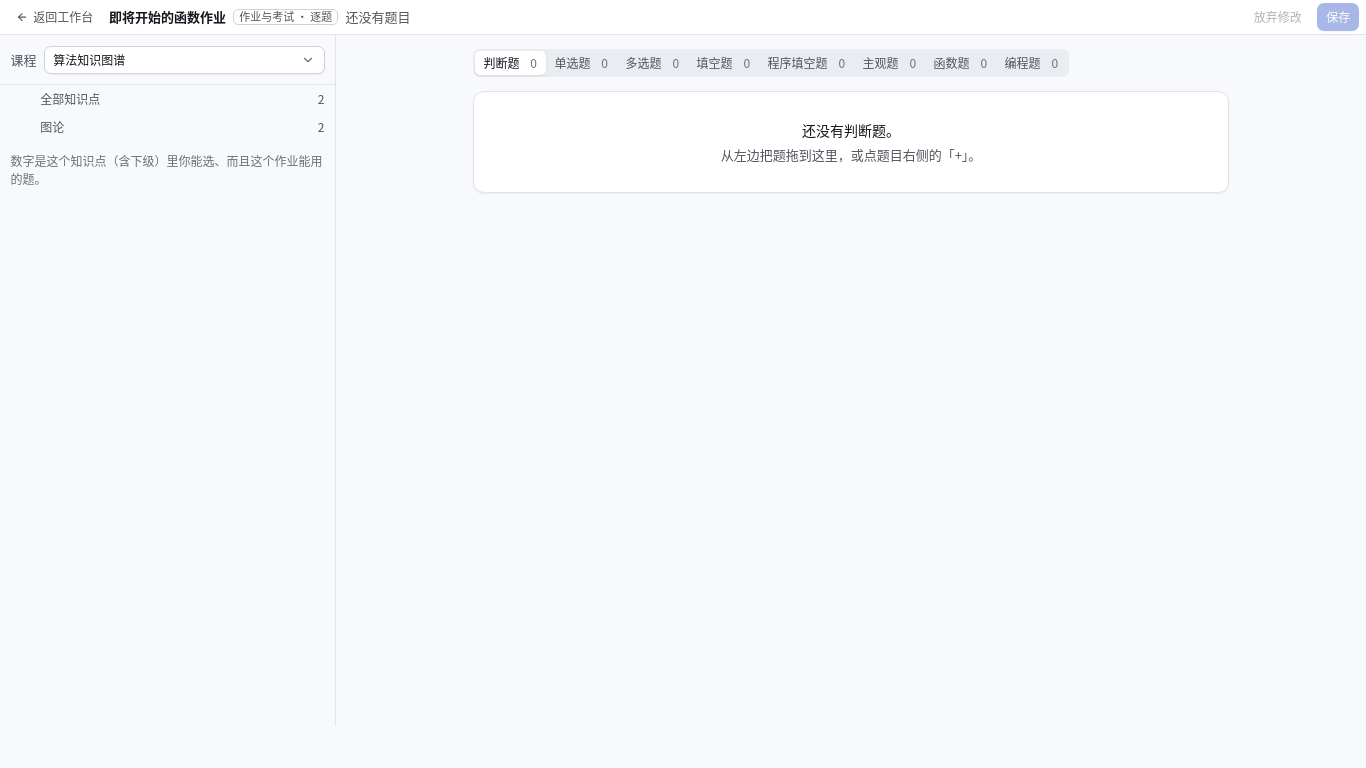
Test: teach compose page › asks before leaving the workbench and stays when the teacher cancels
Click the button "图论": click(52, 126) x1=32 y1=113 x2=314 y2=141
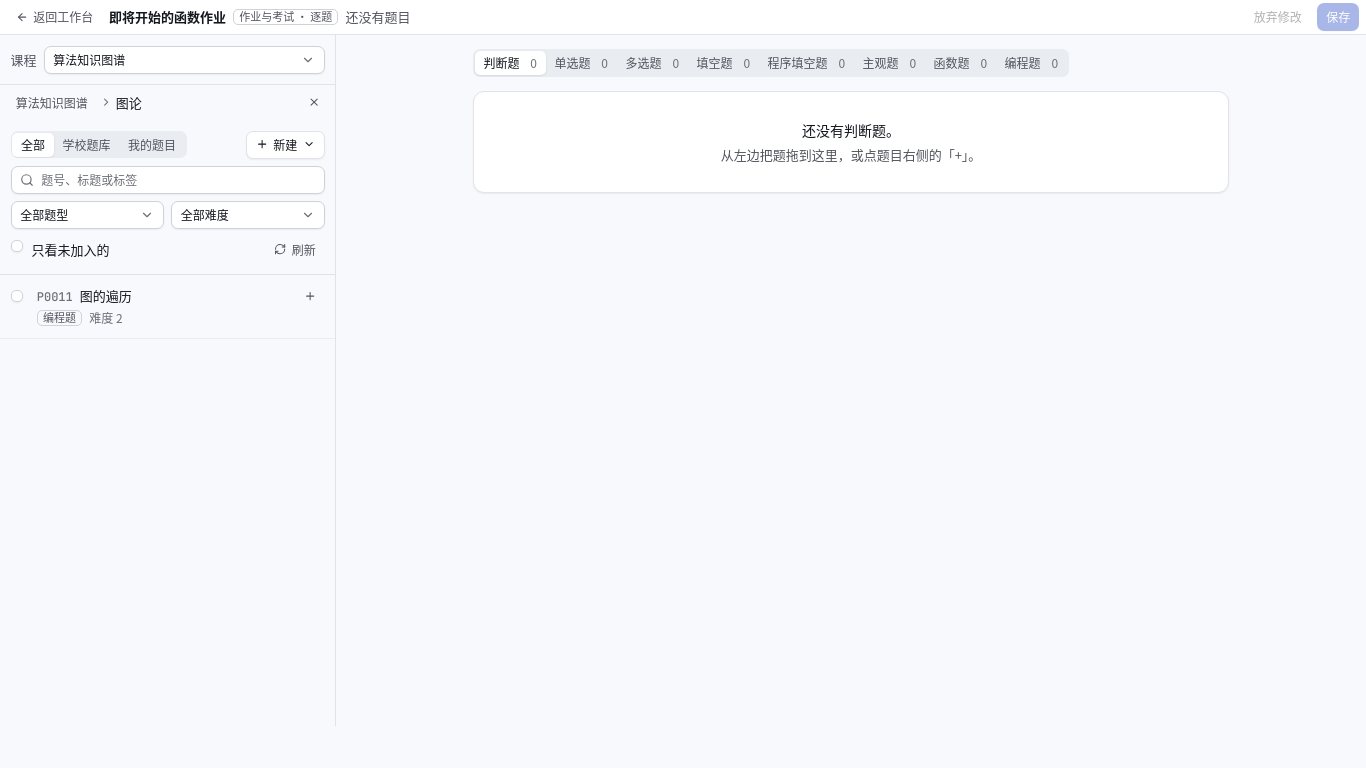
Click the button named "加入 P0011": click(310, 296) x1=296 y1=282 x2=324 y2=310
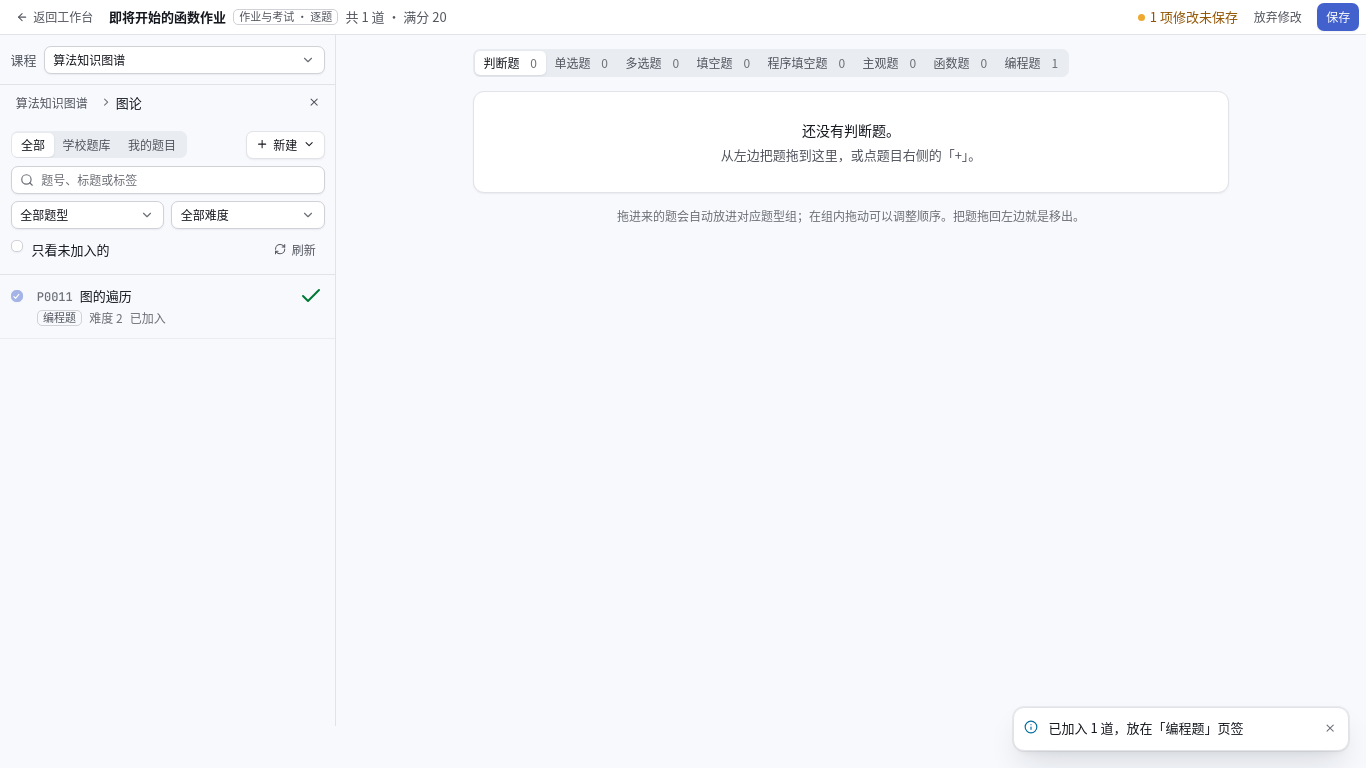
Result: the element showing "1 项修改未保存" is shown at x1=1138 y1=7 x2=1238 y2=27
Click the button "返回工作台": click(54, 17) x1=7 y1=3 x2=102 y2=31
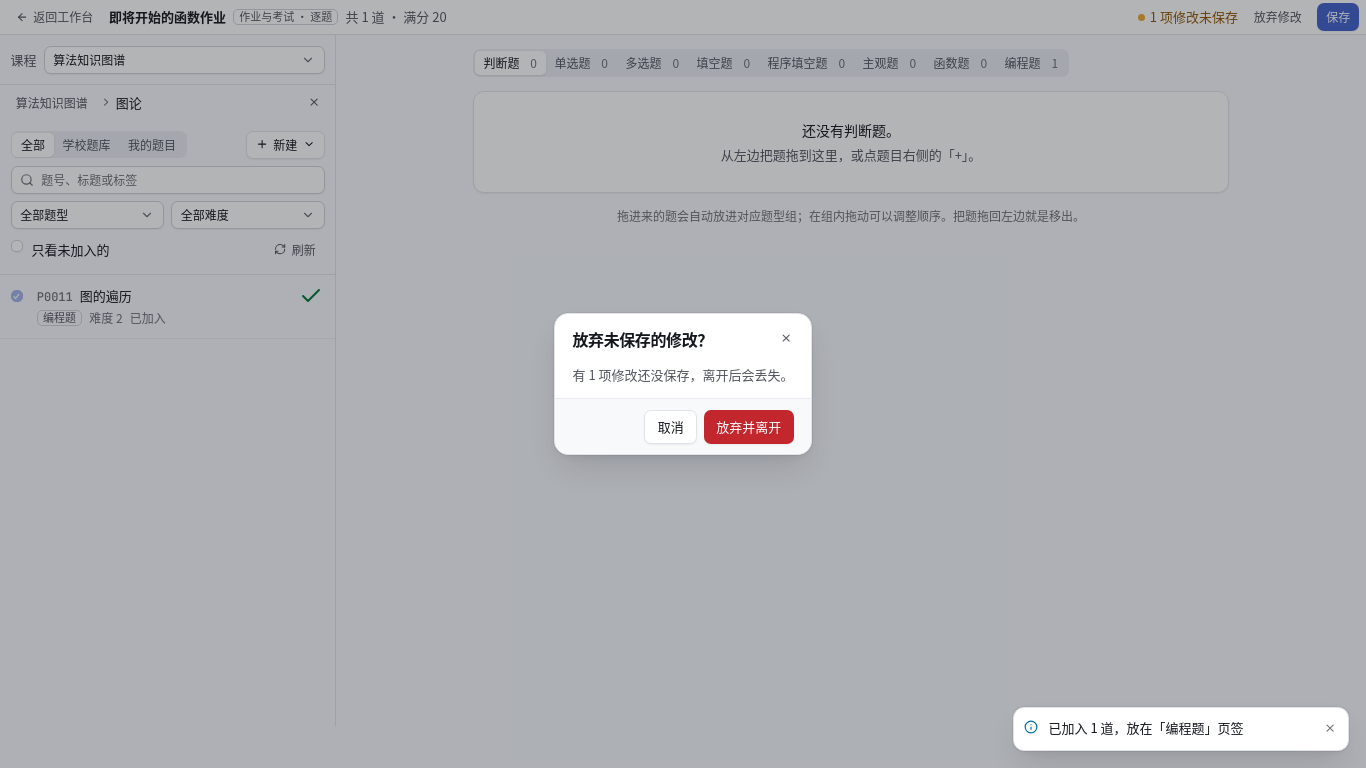
Result: the text "有 1 项修改还没保存，离开后会丢失。" is shown at x1=572 y1=365 x2=794 y2=384
Result: the button "放弃并离开" is shown at x1=704 y1=410 x2=794 y2=444
Click the button "取消": click(671, 427) x1=644 y1=410 x2=697 y2=444
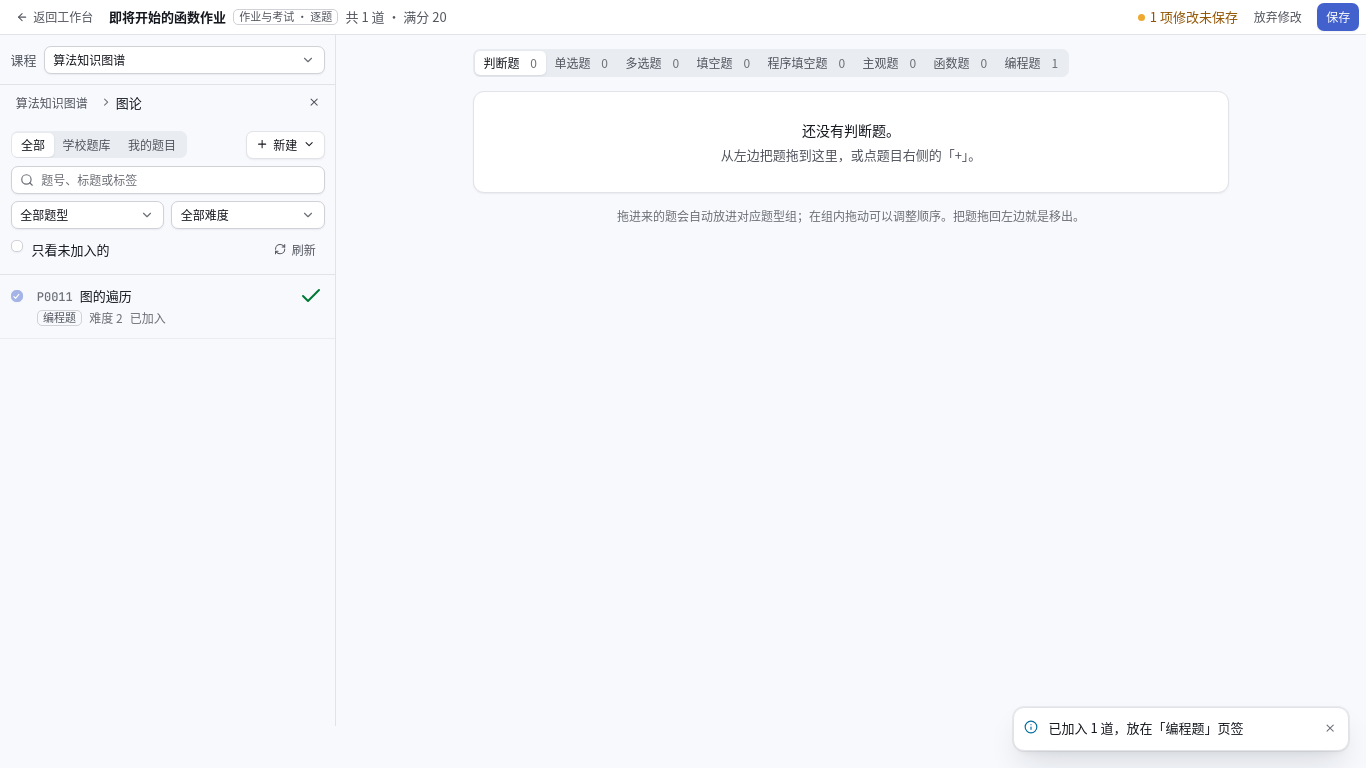
Expected: the text "即将开始的函数作业" is shown, x1=109 y1=7 x2=226 y2=27
Result: the element showing "1 项修改未保存" is shown at x1=1138 y1=7 x2=1238 y2=27
Result: the heading "放弃未保存的修改？" is gone
